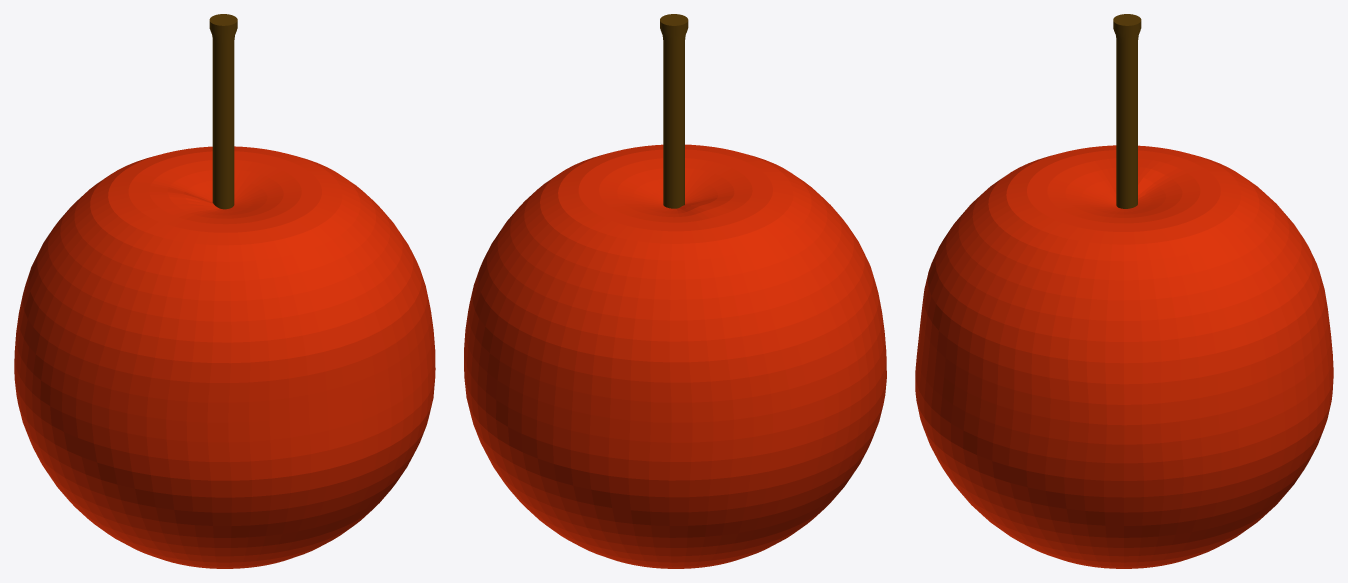
Rendered from pomme.fbx.
3 views of the same model, side by side, from view 1: azimuth 30°, elevation 25°; view 2: azimuth 150°, elevation 25°; view 3: azimuth 270°, elevation 25° (orthographic).
Visible parts, largest first — view 1: Sphere, Cylinder.012; view 2: Sphere, Cylinder.012; view 3: Sphere, Cylinder.012.
Part boxes in pixels (<box>): Sphere: <box>14,146,435,568</box>; Cylinder.012: <box>209,14,237,209</box>; Sphere: <box>464,144,886,568</box>; Cylinder.012: <box>660,14,688,208</box>; Sphere: <box>915,145,1333,568</box>; Cylinder.012: <box>1113,14,1141,208</box>.
Bounding box in the file's own units: 197 × 265 × 193.
